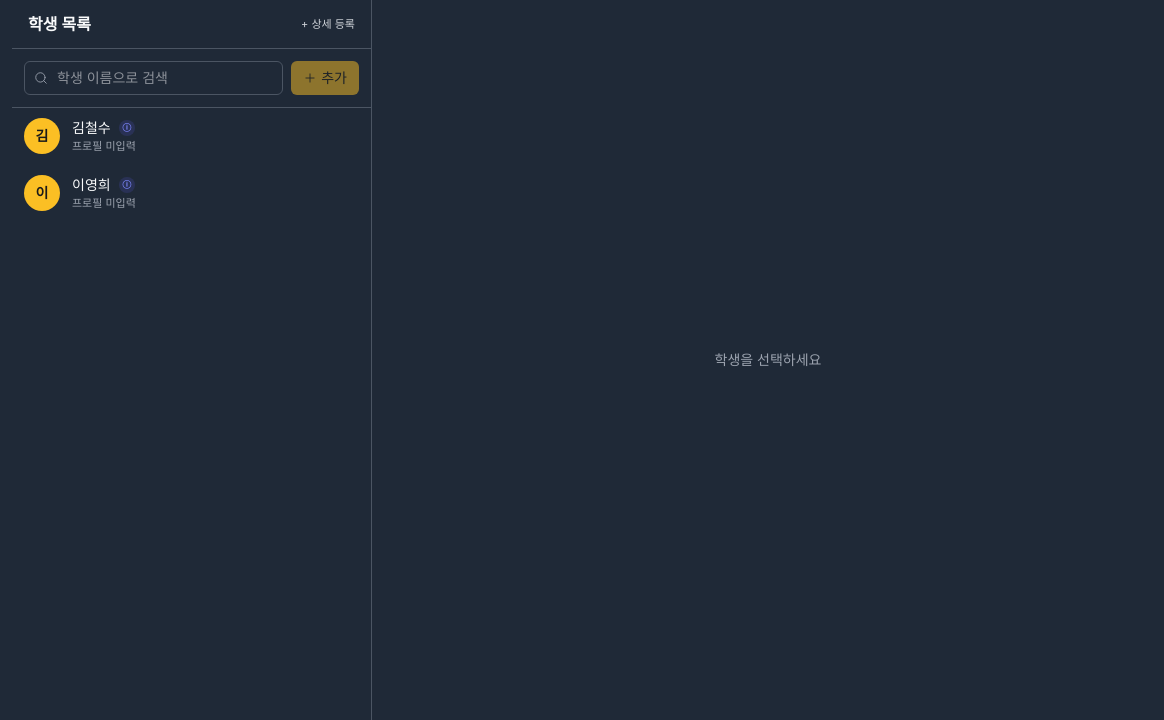
Test case: StudentsPageLayout Component › 검색어 입력 시 목록이 필터링된다 (통합 input)
Type "김" into the field with placeholder "학생 이름으로 검색" at (154, 78), box [24, 61, 283, 95]
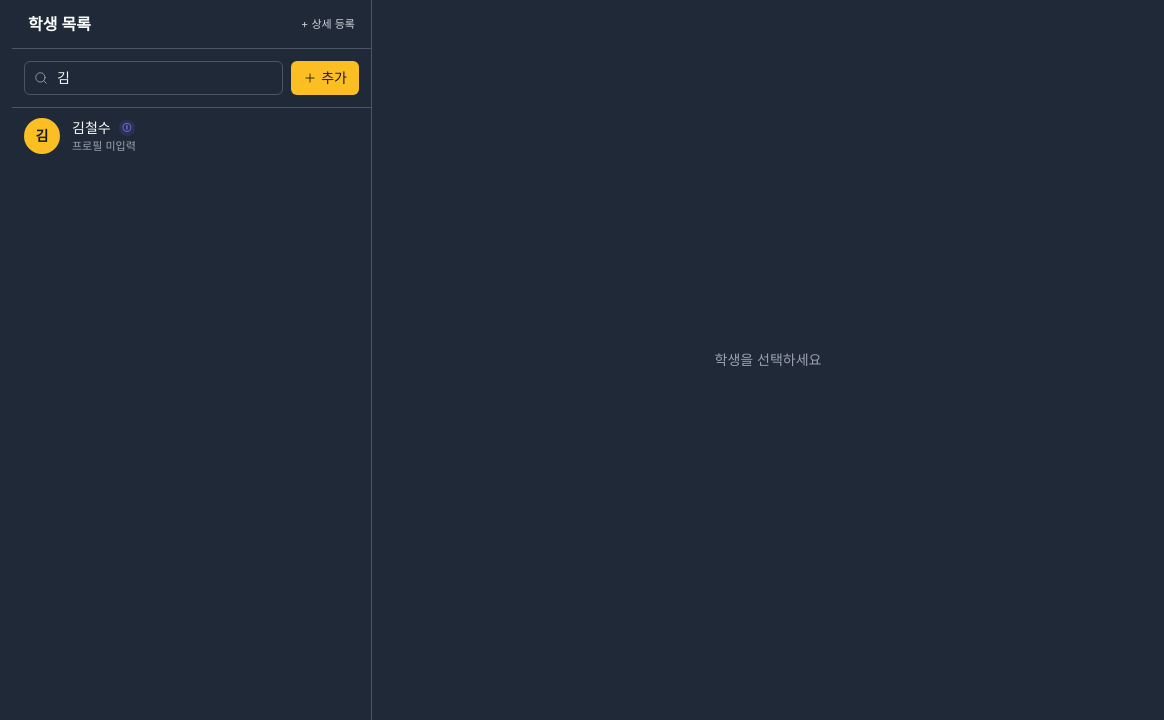
Check: the text "김철수" is shown, box [72, 118, 111, 138]
Check: the button "이영희" is gone
